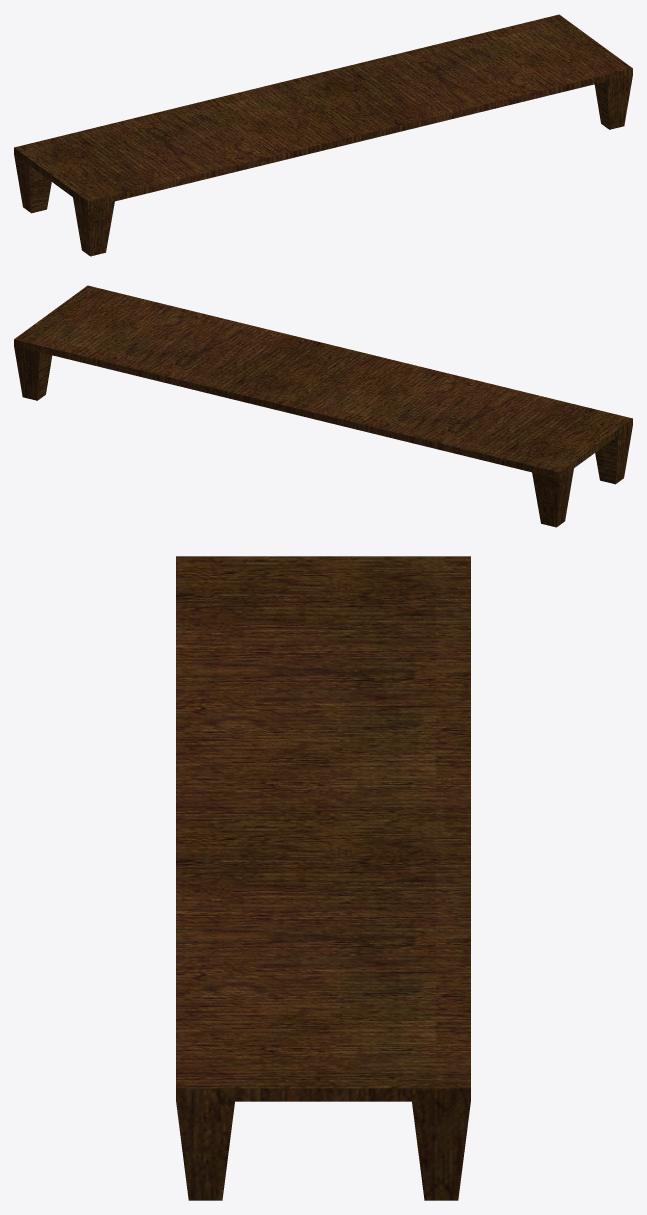
File: LargeDiningTable.glb
The picture shows the model from 3 angles, top to bottom: view 1: azimuth 30°, elevation 25°; view 2: azimuth 150°, elevation 25°; view 3: azimuth 270°, elevation 25°; orthographic projection. The views are drawn at different scales.
Visible parts, largest first — view 1: LargeDiningTable; view 2: LargeDiningTable; view 3: LargeDiningTable.
Boxes of the visible parts, x1,y1,x2,y2 form: LargeDiningTable: (14, 14, 632, 256); LargeDiningTable: (14, 285, 632, 527); LargeDiningTable: (176, 556, 470, 1200).
Bounding box in the file's own units: 6.02 × 0.62 × 1.41.
1 material, 1 textured.
